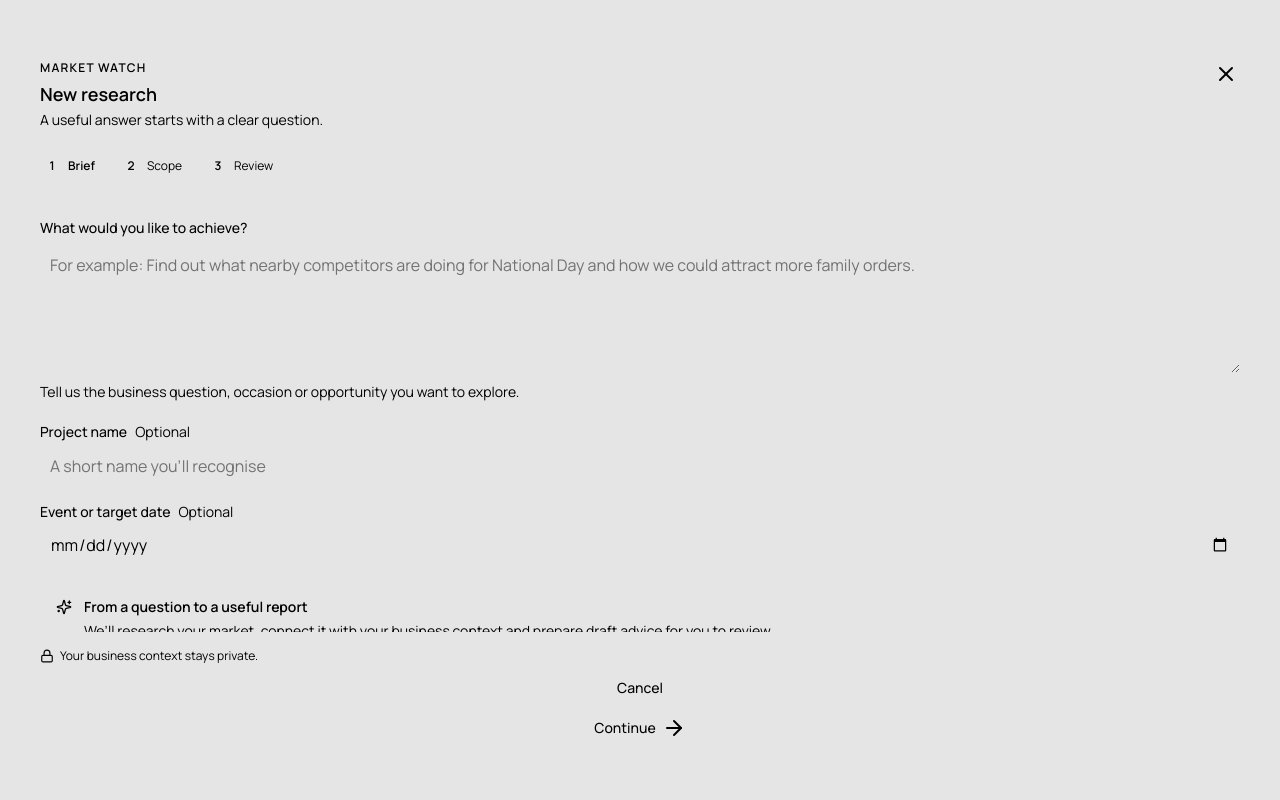
Test: NewResearchDialog brief step › requires the business question inline and preserves every other input
The image size is (1280, 800).
Type "National Day" into the field labelled "Project name Optional" at coordinates (640, 466), box [40,450,1240,482]
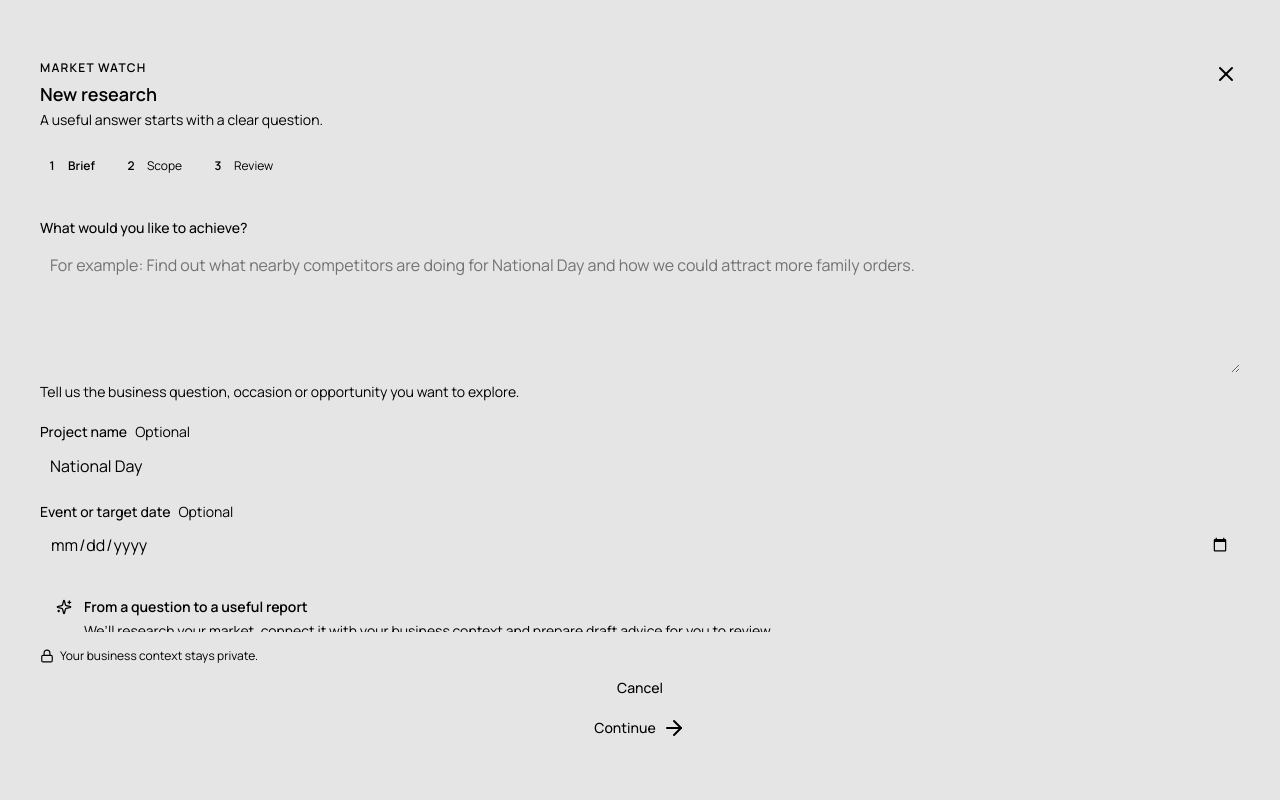
Click the button "Continue" at coordinates (640, 728), box [40,712,1240,744]
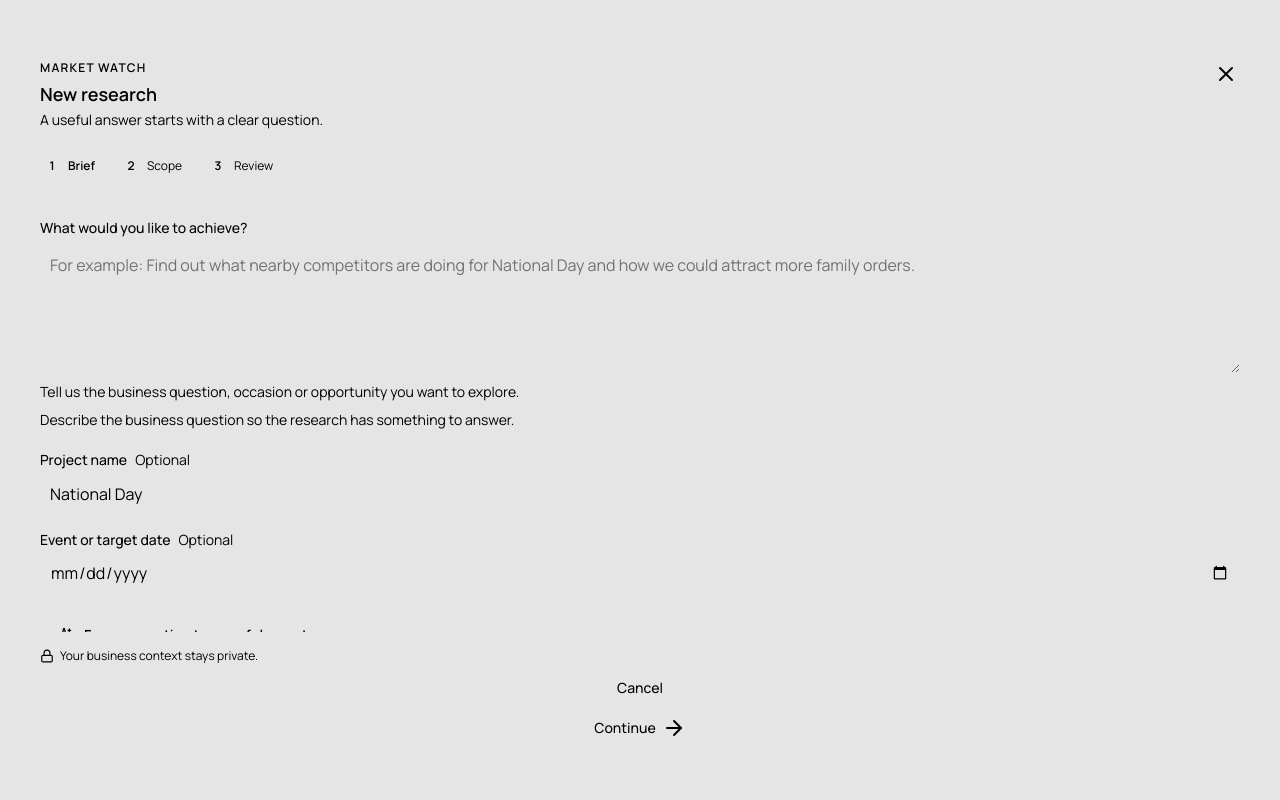
Check: the message "Describe the business question so the research has something to answer." is shown, box [40,410,514,429]
Replace the text in the text box labelled "What would you like to achieve?" with "How should we prepare for National Day?" at coordinates (640, 309), box [40,245,1240,373]
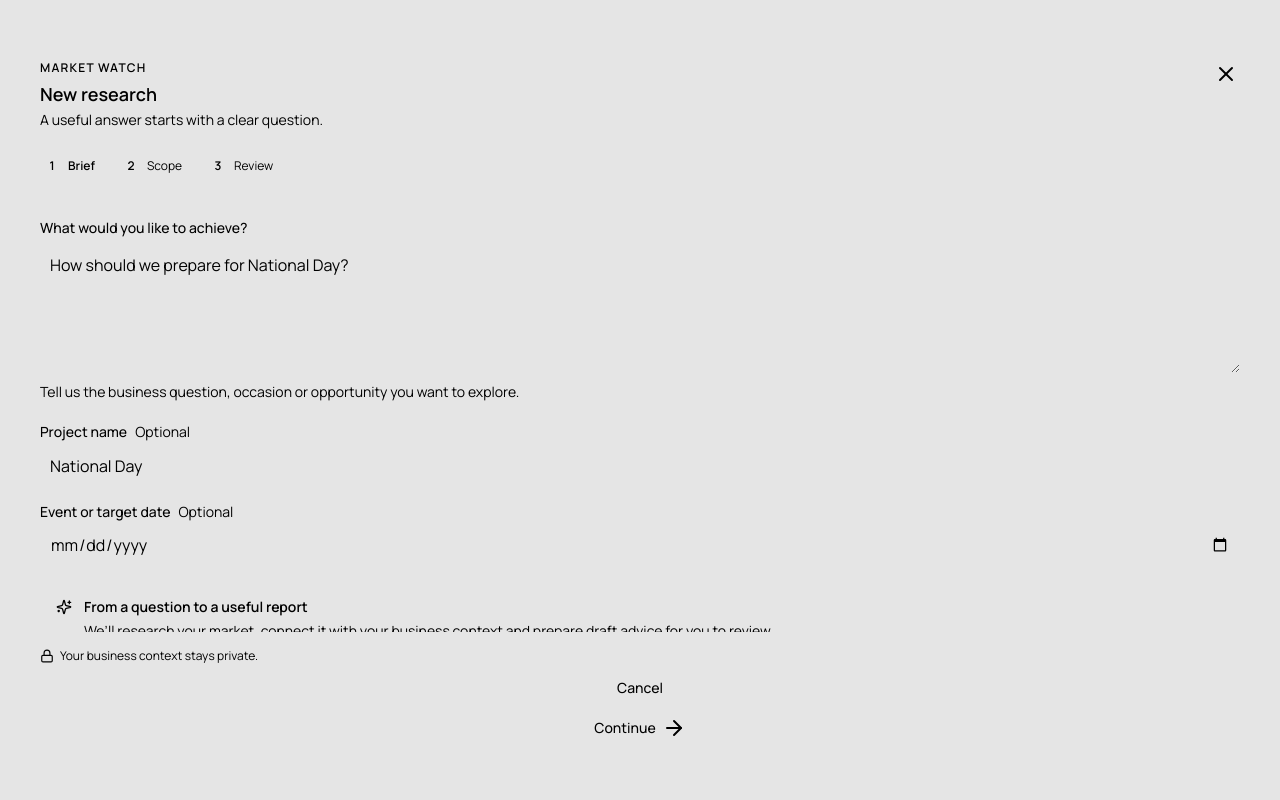
Click the button "Continue" at coordinates (640, 728), box [40,712,1240,744]
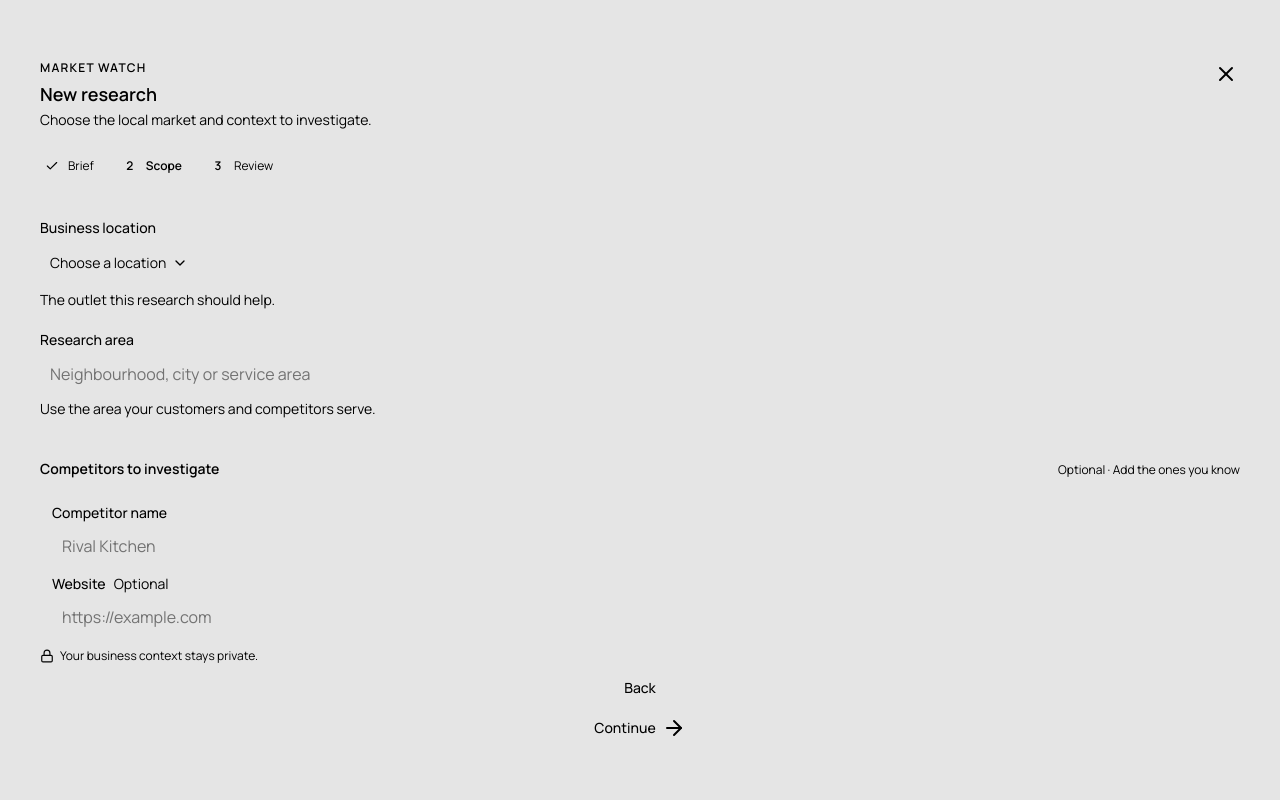
Check: the dropdown named "business location" is shown, box [40,245,196,281]
